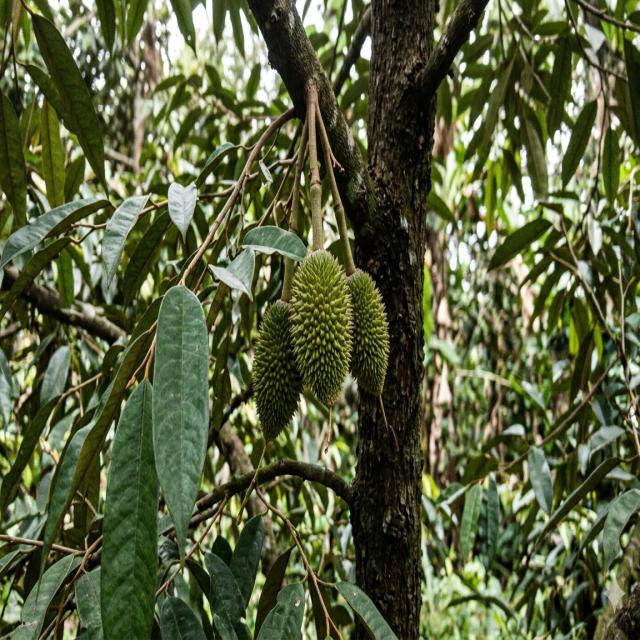immature: (288, 246, 354, 406), (252, 300, 303, 440), (346, 269, 390, 394)
